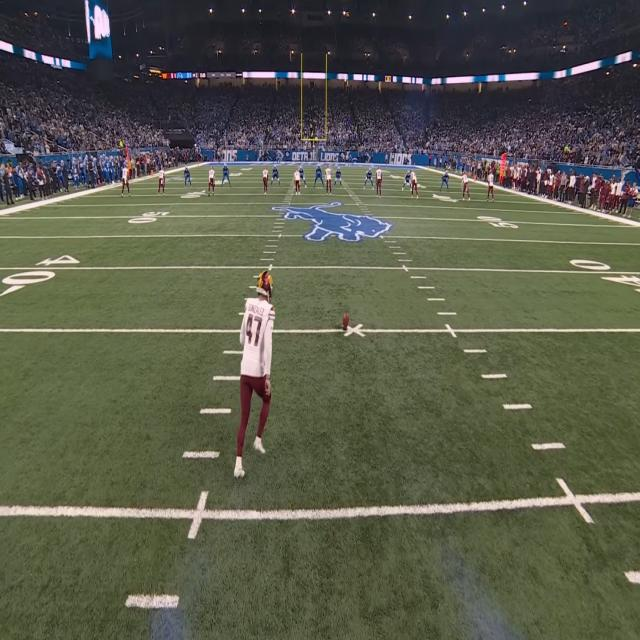Ball: (342, 313, 349, 330)
